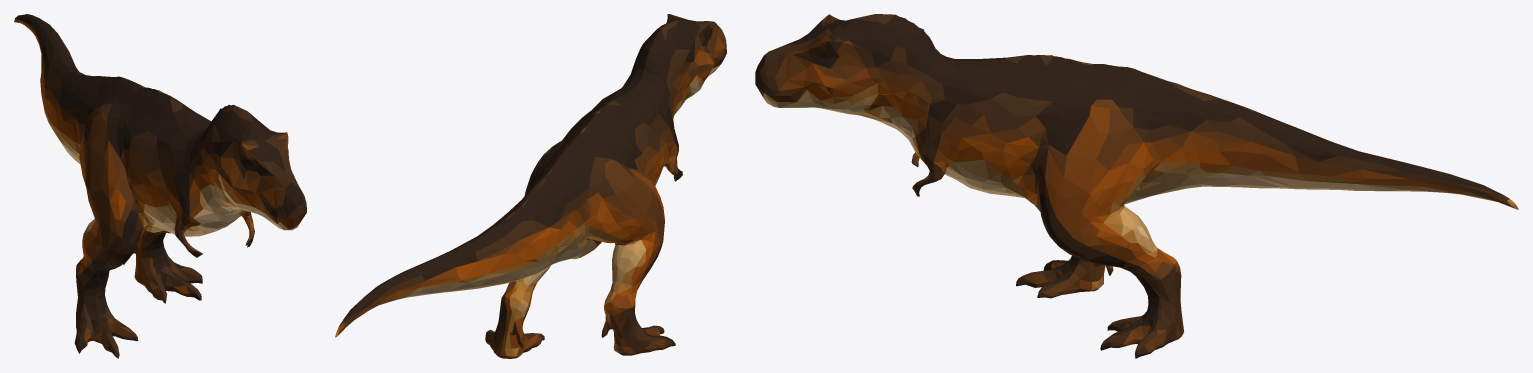
The model's file is low-poly-t-rex.glb.
The picture shows the model from 3 angles, left to right: view 1: azimuth 30°, elevation 25°; view 2: azimuth 150°, elevation 25°; view 3: azimuth 270°, elevation 25°; orthographic projection. The views are drawn at different scales.
Visible parts, largest first — view 1: low-poly-t-rex; view 2: low-poly-t-rex; view 3: low-poly-t-rex.
Part boxes in pixels (x1,y1,x2,y2): low-poly-t-rex: (14,14,306,358); low-poly-t-rex: (335,14,726,358); low-poly-t-rex: (755,14,1518,358).
Bounding box in the file's own units: 3.28 × 5.28 × 12.06.
1 material, 1 textured.
